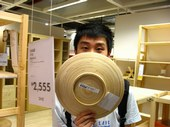face: (75, 35, 107, 66)
